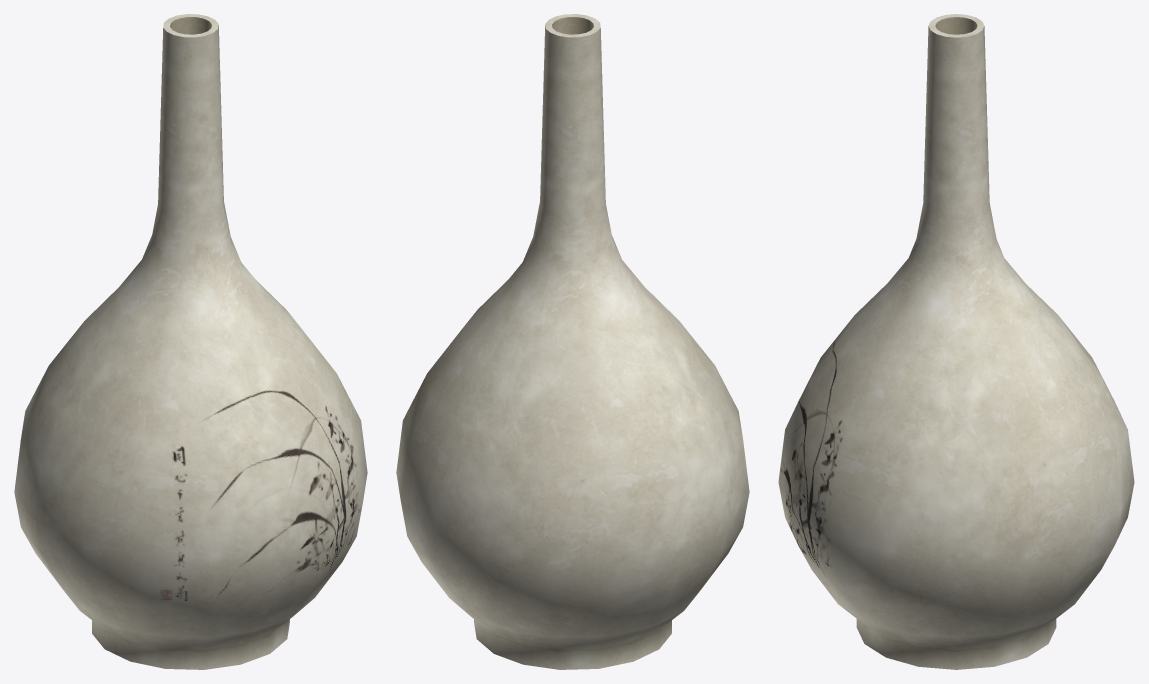
The model's file is white_ceramic.fbx.
3 renders of one model, left to right at view 1: azimuth 30°, elevation 25°; view 2: azimuth 150°, elevation 25°; view 3: azimuth 270°, elevation 25°, orthographic.
Parts seen in each view (by area): view 1: white_low; view 2: white_low; view 3: white_low.
Part boxes in pixels (x1,y1,x2,y2): white_low: (14, 14, 367, 669); white_low: (396, 14, 749, 669); white_low: (778, 14, 1134, 669).
Bounding box in the file's own units: 36.29 × 67.7 × 36.29.
